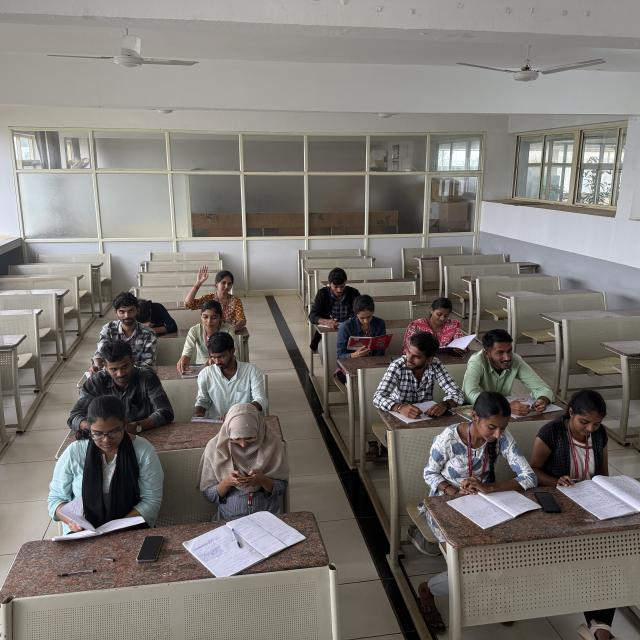Hand Rising: (184, 263, 246, 331)
Reading: (56, 404, 153, 536), (445, 393, 519, 506), (341, 294, 394, 353), (425, 293, 476, 349)
Sleeping: (129, 290, 184, 338)
Using Phone: (202, 402, 283, 492)
Writing: (550, 390, 618, 488), (80, 293, 158, 376), (390, 337, 458, 411), (310, 267, 368, 327)
